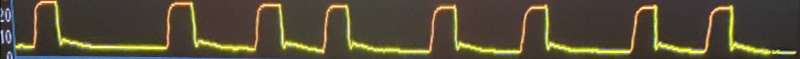normal_pressure: (25, 0, 797, 59)
